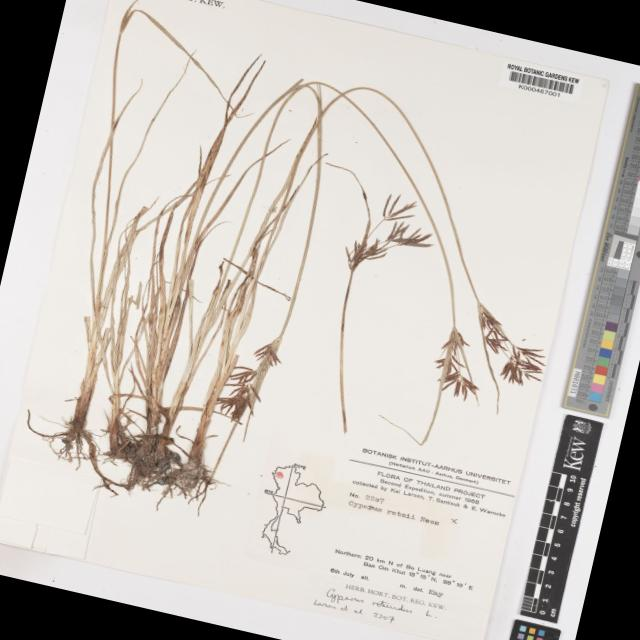cyperus: (412, 288, 556, 413), (335, 182, 439, 282), (204, 332, 296, 433)
